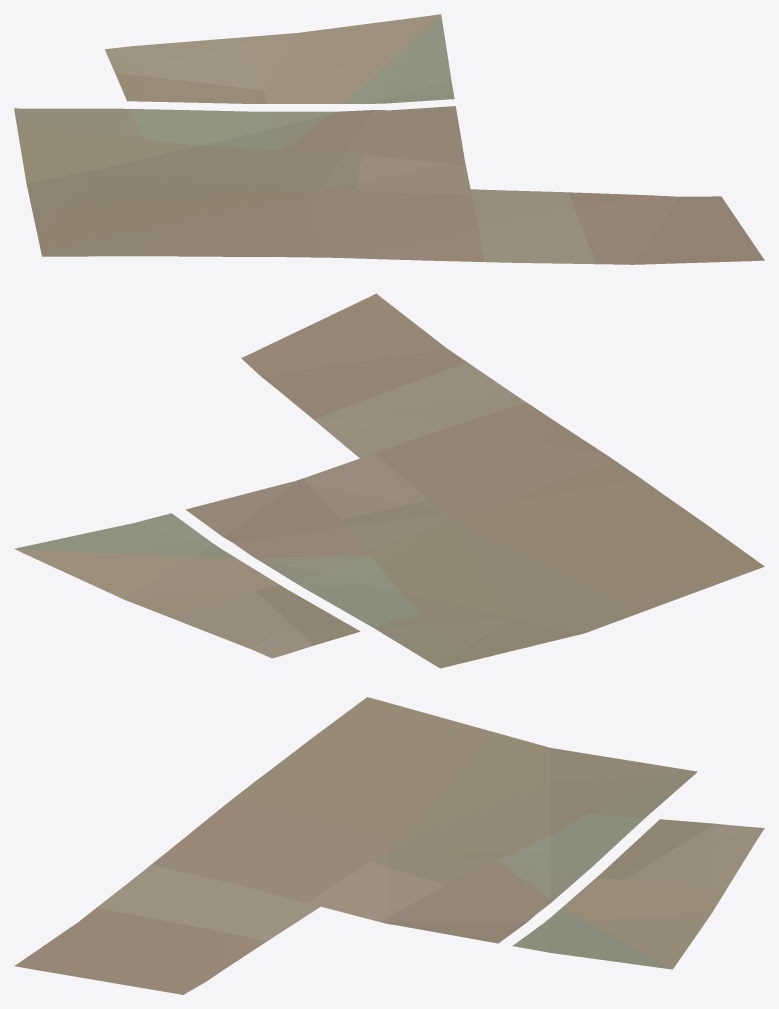
Rendered from farm_26_12_soil.glb.
The picture shows the model from 3 angles, top to bottom: view 1: azimuth 30°, elevation 25°; view 2: azimuth 150°, elevation 25°; view 3: azimuth 270°, elevation 25°; orthographic projection. The views are drawn at different scales.
Parts seen in each view (by area): view 1: geometry_0; view 2: geometry_0; view 3: geometry_0.
Boxes of the visible parts, x1,y1,x2,y2 form: geometry_0: [14, 14, 764, 264]; geometry_0: [14, 293, 764, 668]; geometry_0: [14, 697, 764, 994].
Size of the model in its own units: 329 by 9.93 by 368.
